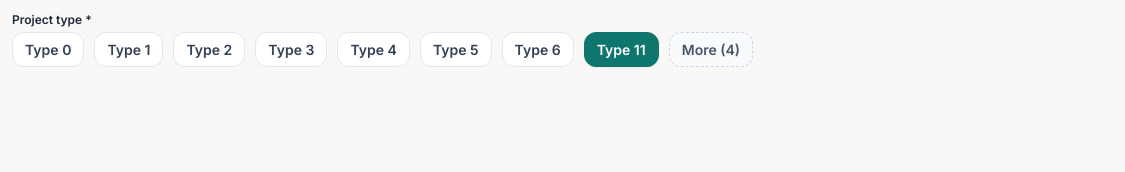
Test: a long compact choice set starts bounded and can be expanded
Expected: the button "Type 11" is shown, [584, 32, 659, 67]
Expected: the button "Type 8" is not shown
Click the button "More (4)": (711, 50) [669, 32, 753, 67]
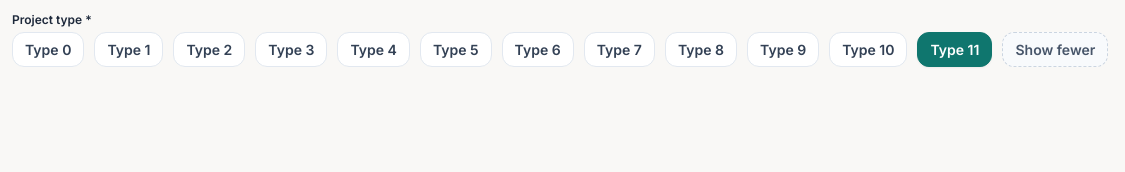
Expected: the button "Type 8" is shown, [665, 32, 737, 67]
Expected: the button "Show fewer" is expanded, [1002, 32, 1108, 67]
